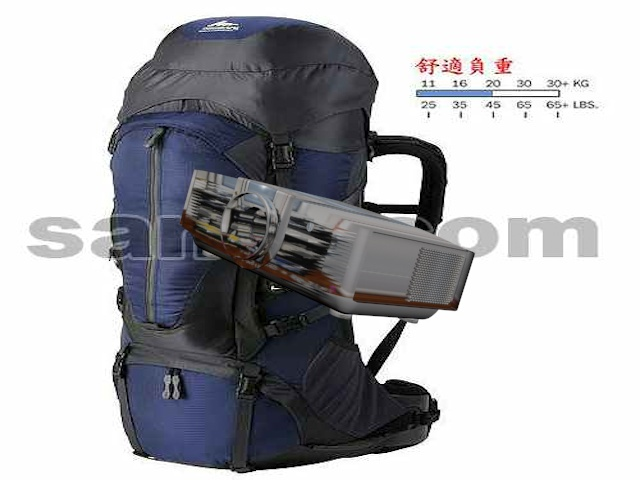projector: (176, 161, 480, 328)
